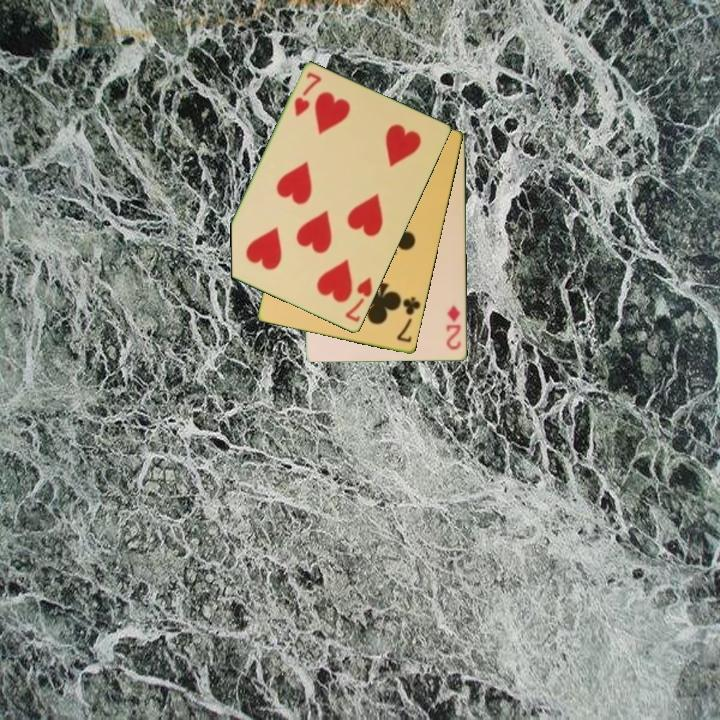2d: (443, 302, 464, 353)
7c: (393, 293, 423, 345)
7h: (291, 69, 325, 120), (342, 274, 375, 325)
